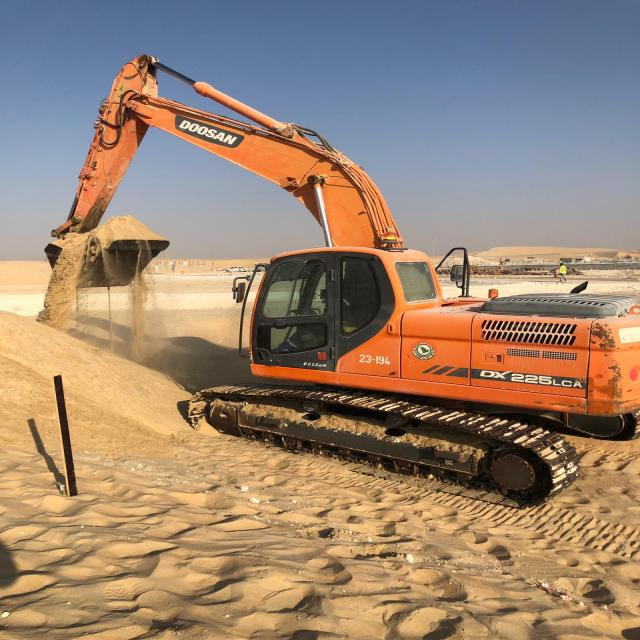Excavator: (35, 51, 636, 507)
